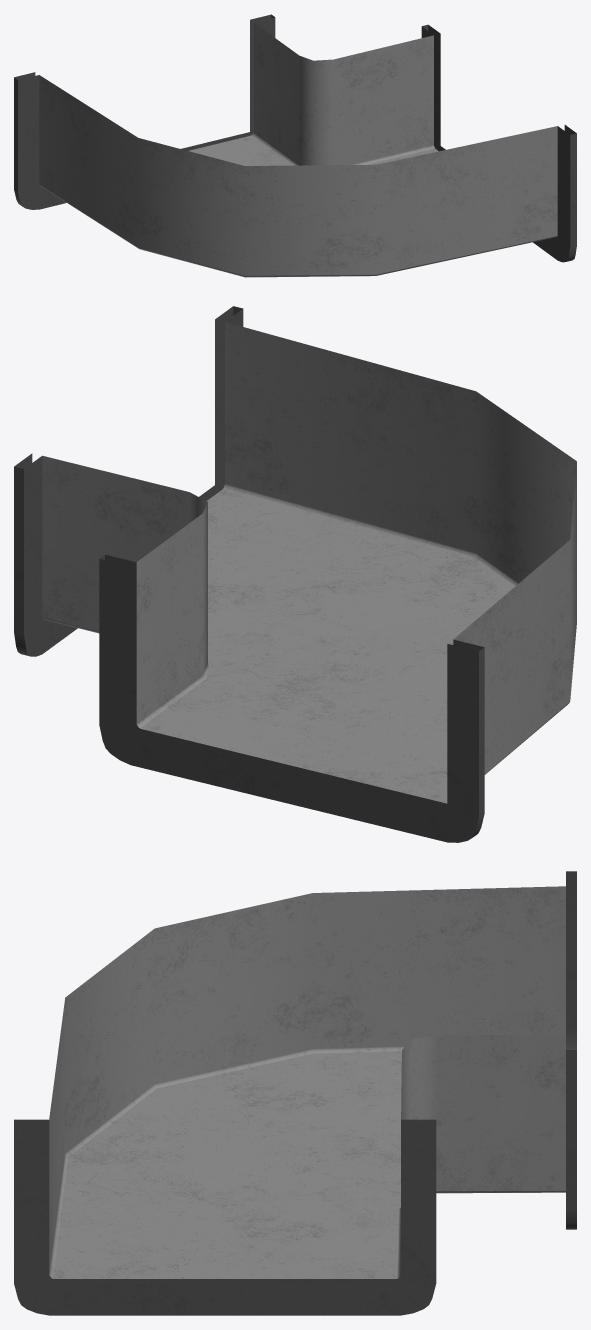
File: AirductCurve_geo.fbx
3 views of the same model, one above another, from view 1: azimuth 30°, elevation 25°; view 2: azimuth 150°, elevation 25°; view 3: azimuth 270°, elevation 25° (orthographic). The views are drawn at different scales.
Visible parts, largest first — view 1: Airduct_Curve; view 2: Airduct_Curve; view 3: Airduct_Curve.
Part boxes in pixels (box(x1,y1,x2,y2)): Airduct_Curve: box(14, 14, 576, 277); Airduct_Curve: box(14, 306, 576, 842); Airduct_Curve: box(14, 871, 576, 1315).
Bounding box in the file's own units: 340 × 120 × 320.
Materials: 1 (1 with a texture image).
